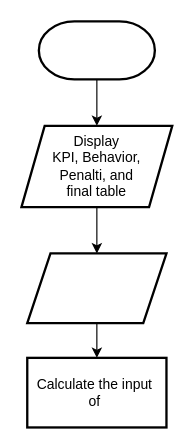
Image size: 193x448. Some labels were removed from this diagram. The shapes that lost their labels are listed below. From the top down, each one's centre as x and y in pixels, then its label:
At point (96, 50): "Start".
At point (96, 288): "User input form KPI, Behavior, Penalti".
